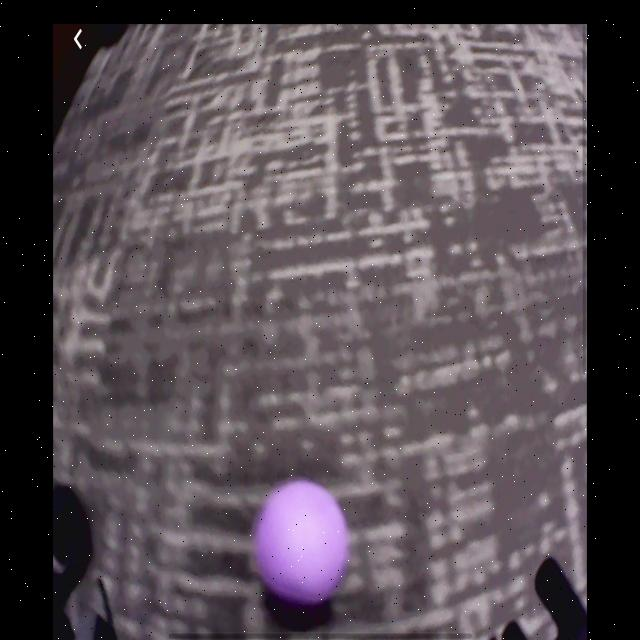ball: (256, 480, 348, 608)
